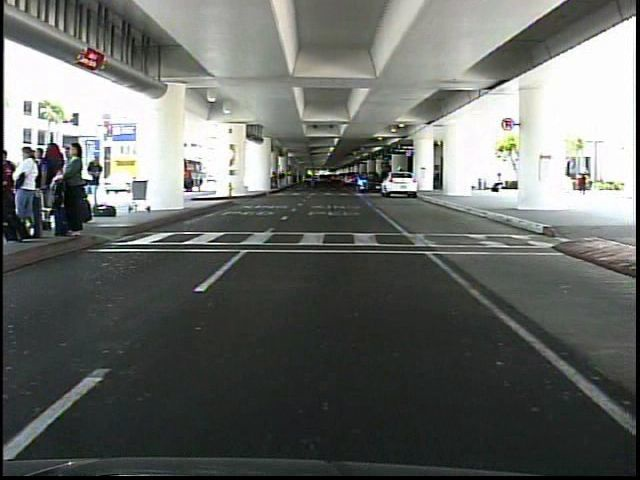person: (571, 162, 594, 201), (489, 167, 506, 199)
